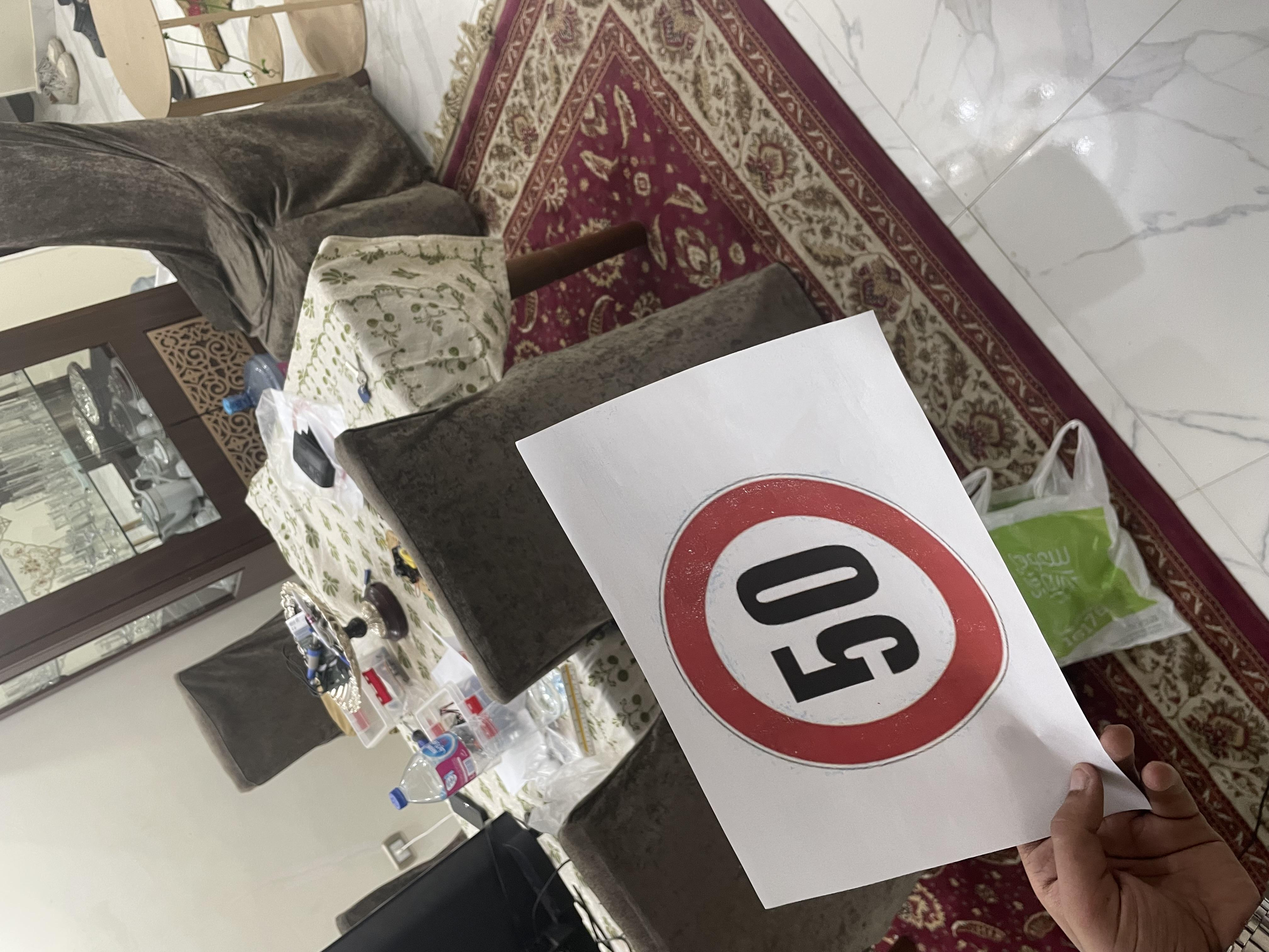50-Speed: (248, 485, 640, 749)
